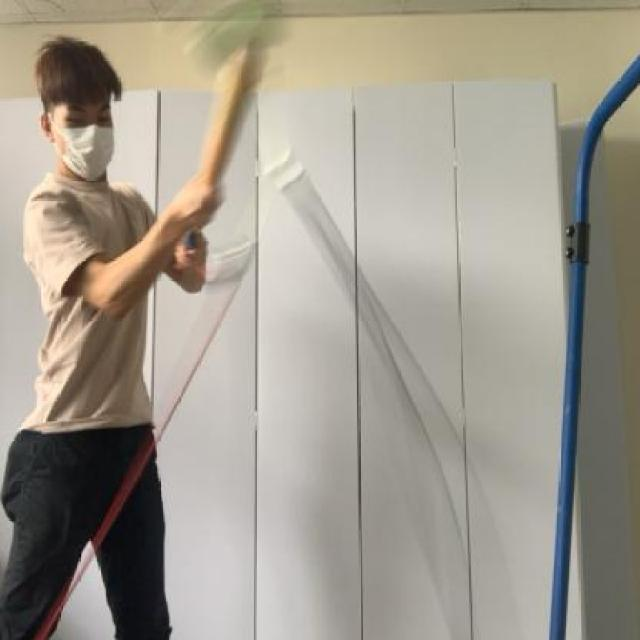baseball: (182, 0, 298, 62)
